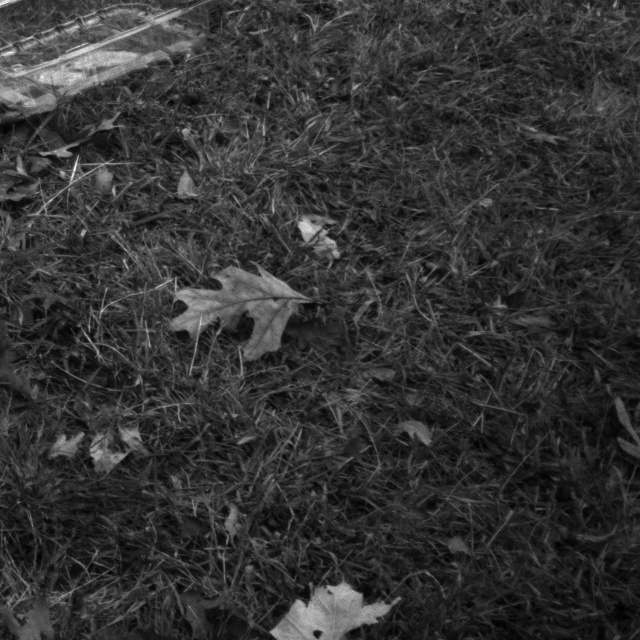container: (0, 0, 214, 146)
